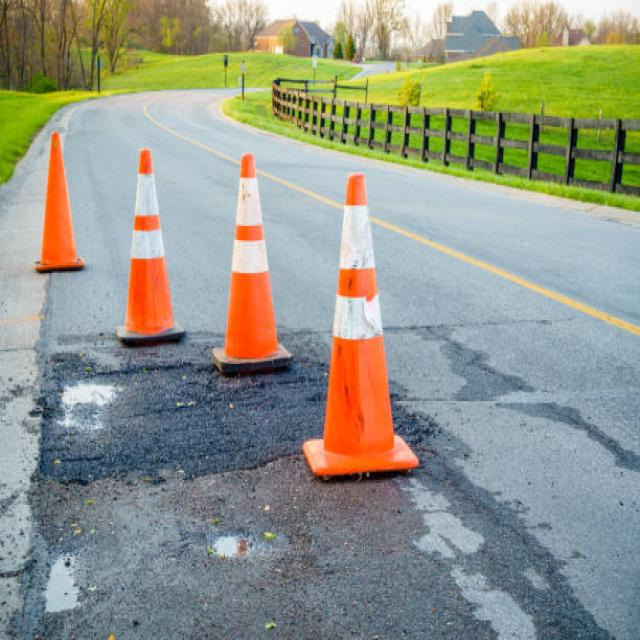Traffic Cone: (293, 159, 425, 493), (206, 143, 300, 380), (106, 141, 189, 354), (23, 115, 93, 286)
